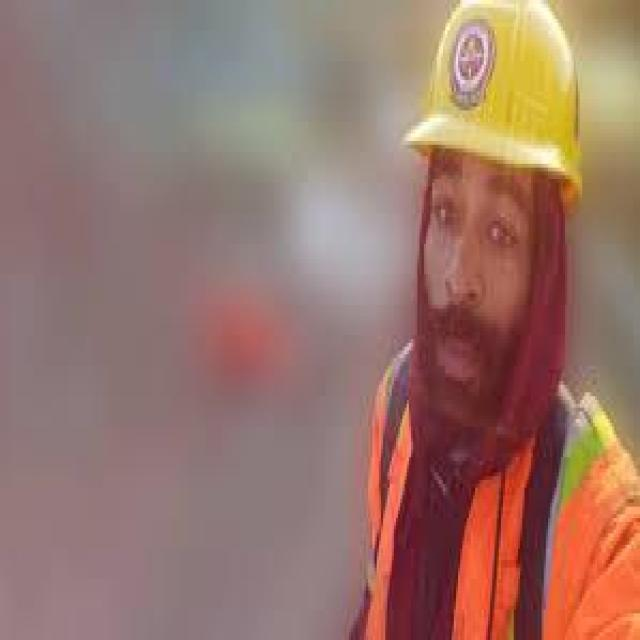helmet: (402, 0, 582, 210)
